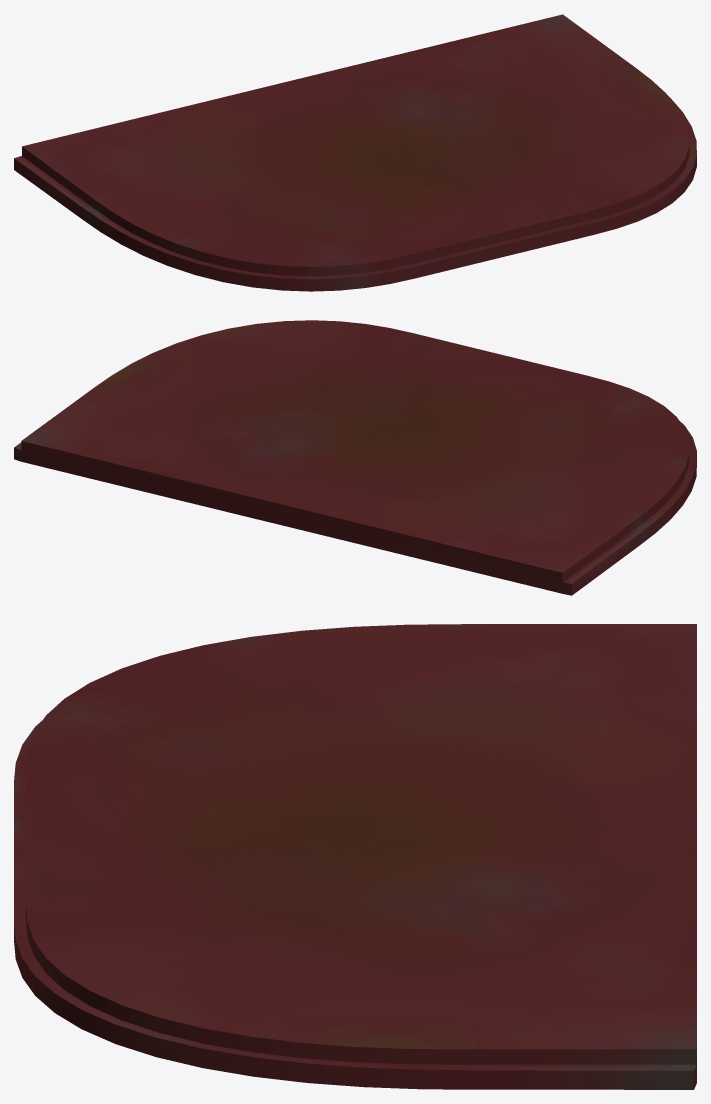
The model's file is lava 1.fbx.
3 renders of one model, top to bottom at view 1: azimuth 30°, elevation 25°; view 2: azimuth 150°, elevation 25°; view 3: azimuth 270°, elevation 25°, orthographic. The views are drawn at different scales.
Visible parts, largest first — view 1: lava; view 2: lava; view 3: lava.
Part boxes in pixels (x1=…): lava: x1=14, y1=14, x2=696, y2=291; lava: x1=14, y1=320, x2=696, y2=595; lava: x1=14, y1=624, x2=696, y2=1089.
Size of the model in its own units: 2918 by 106 by 1921.
1 material, 1 textured.
